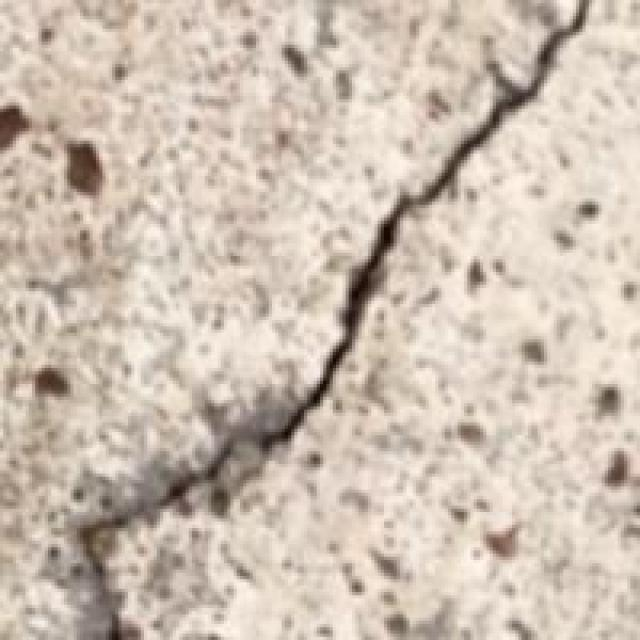Crack: (58, 0, 595, 637)
